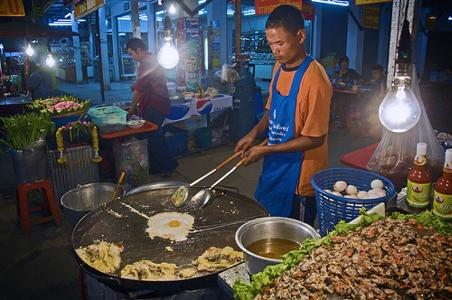person: (235, 5, 332, 228)
